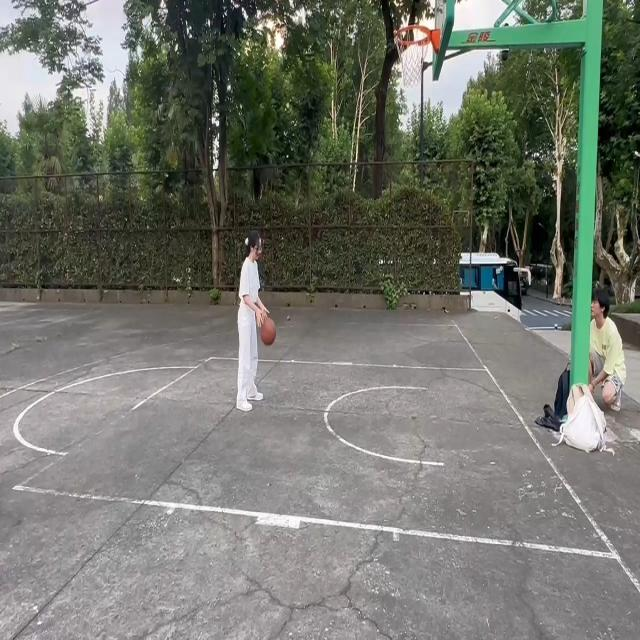basketball: (395, 23, 437, 86)
rim: (262, 320, 278, 347)
